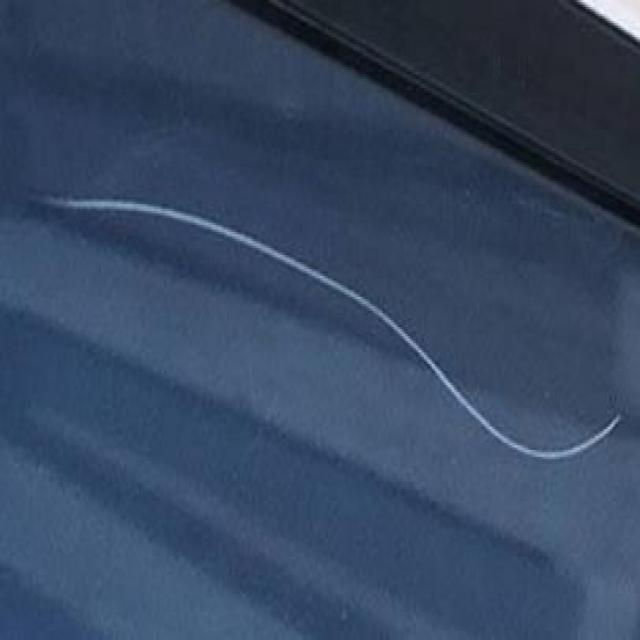scratch: (21, 172, 624, 470)
